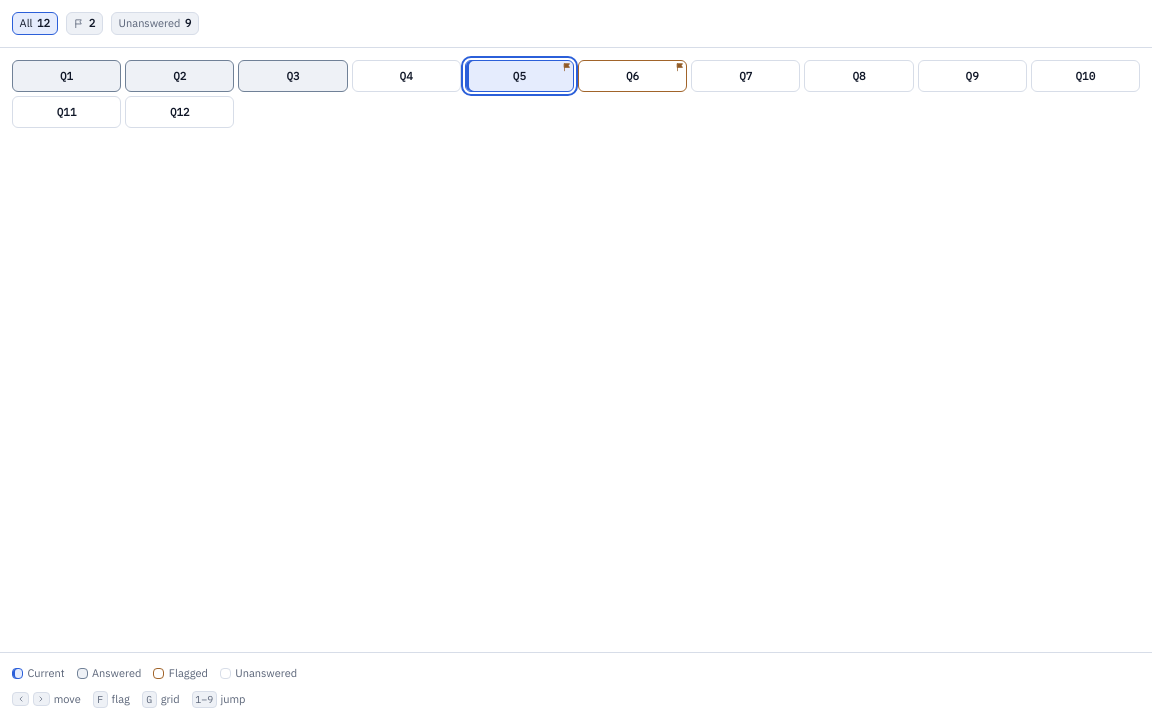
Test: Navigator flags › unflagging under the flagged filter moves the focus, not loses it
Click the button named "Flagged": (84, 23) [66,12,103,35]
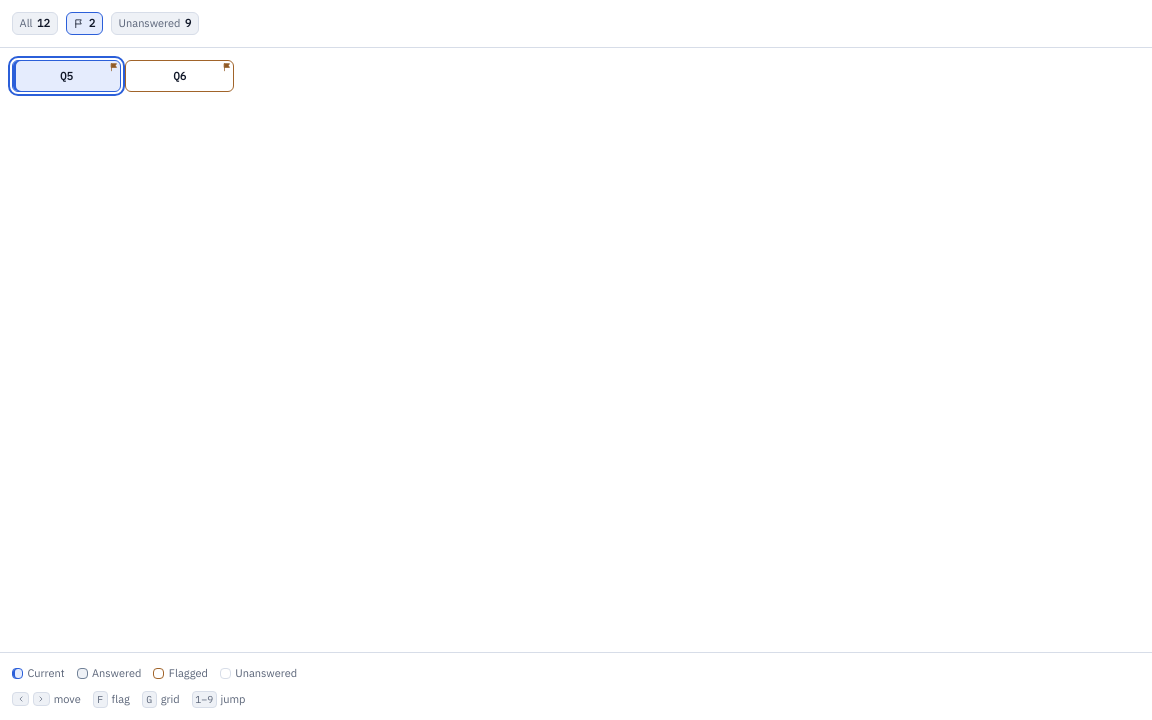
Type keys "f"
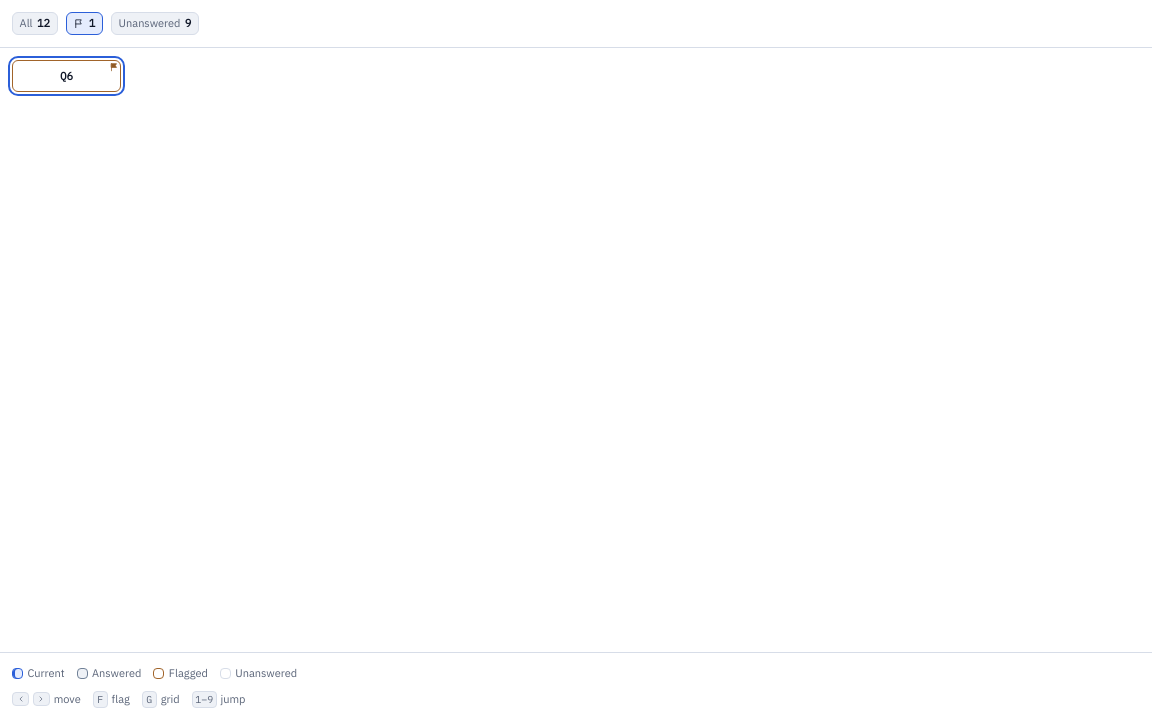
Now the button "Q5" is gone
